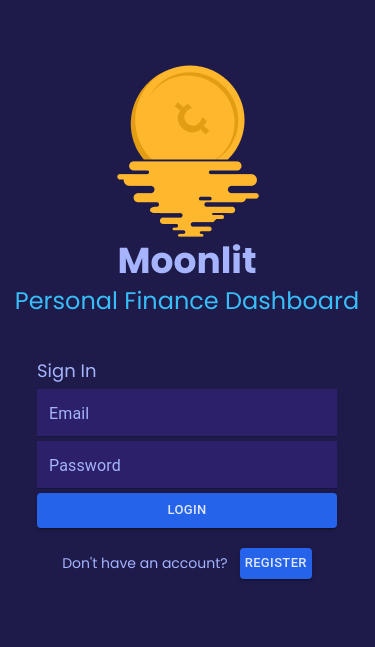
Register Page › requires valid name, email & password
The width and height of the screenshot is (375, 647).
Click the button with test id "cypress-toregister" at (276, 564), box x1=240 y1=548 x2=312 y2=579
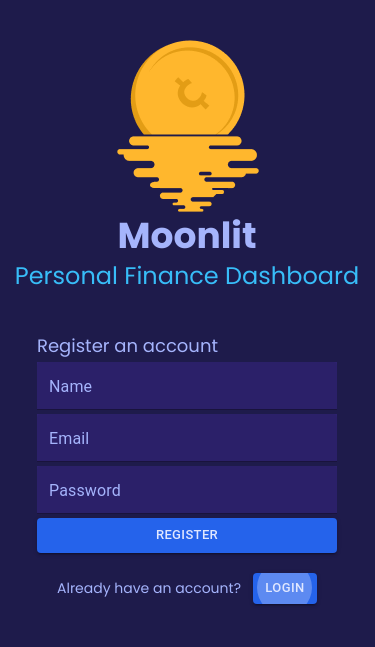
Type "Greg" into the element with test id "cypress-registername" at (187, 386), box x1=37 y1=362 x2=337 y2=410
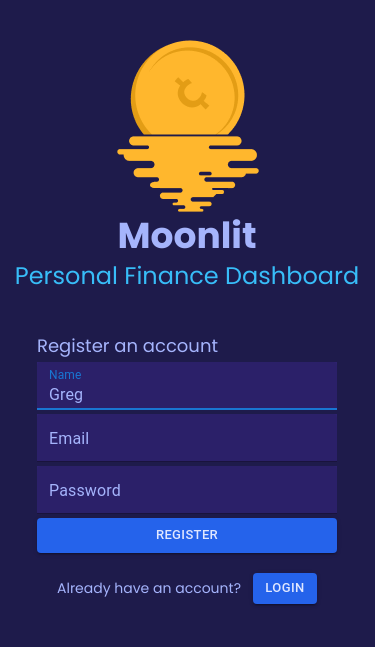
Type "notarealemail" into the element with test id "cypress-registeremail" at (187, 438), box x1=37 y1=414 x2=337 y2=462
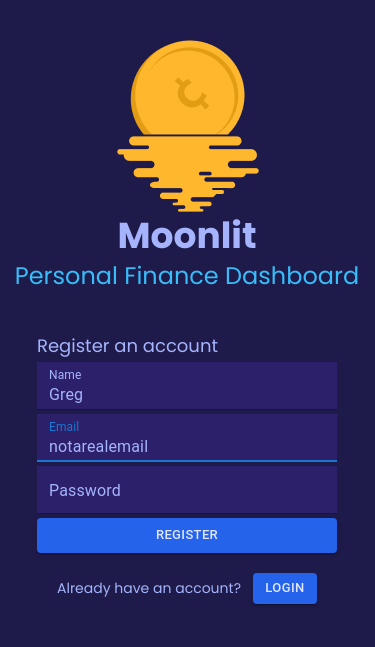
Type "greg" into the element with test id "cypress-registerpassword" at (187, 490), box x1=37 y1=466 x2=337 y2=514
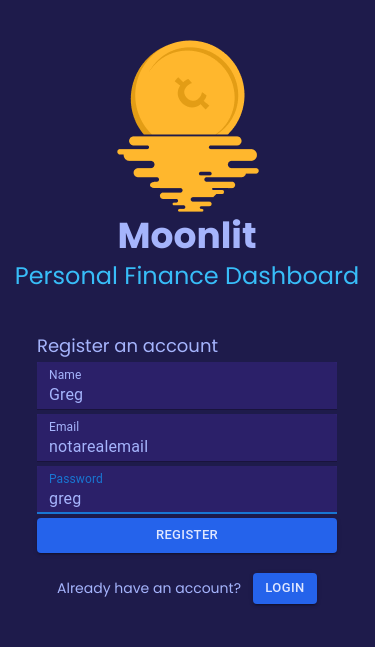
Click the button with test id "cypress-register" at (187, 536), box x1=37 y1=518 x2=337 y2=553
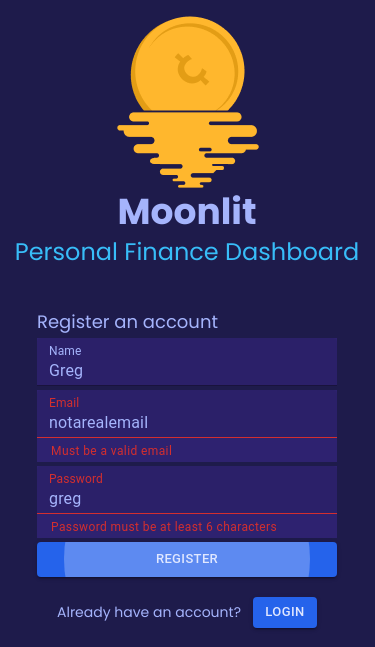
Expected: the text "Must be a valid email" is shown, x1=51 y1=444 x2=172 y2=458
Expected: the text "Password must be at least 6 characters" is shown, x1=51 y1=520 x2=277 y2=534
